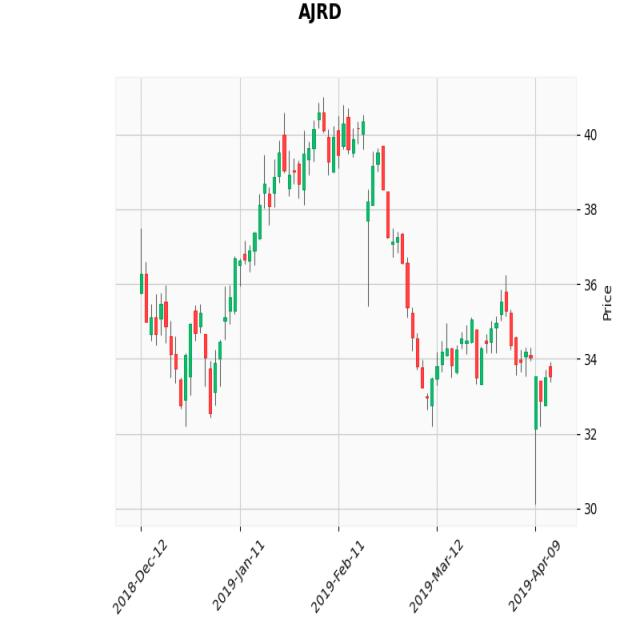Double-Bottom: (153, 274, 239, 428)
Head-Shoulders: (259, 93, 396, 219)
